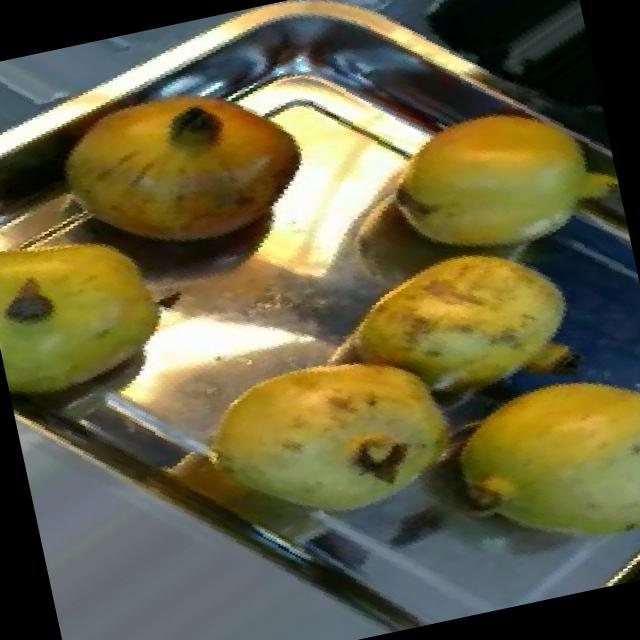fruit: (24, 38, 340, 294), (189, 304, 494, 564), (341, 68, 632, 304), (0, 194, 212, 428)
